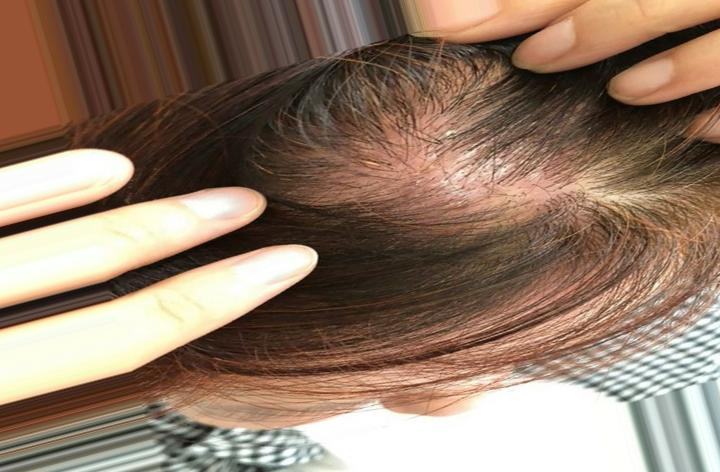Contact Dermatitis: (283, 61, 534, 244)
